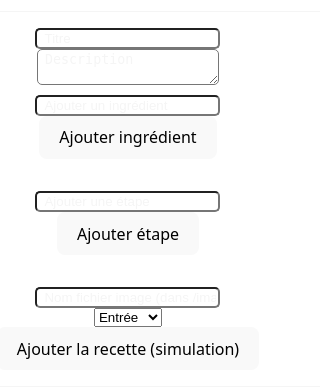
RecipeForm › ajoute un ingrédient quand on clique sur 'Ajouter ingrédient'
In the field with placeholder "Ajouter un ingrédient": (128, 105) [36,95,220,116], type "sucre"
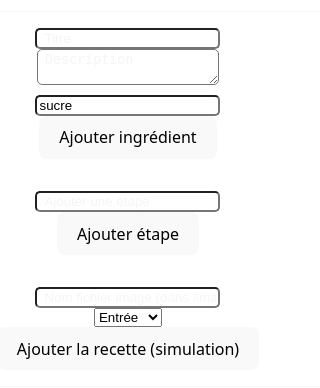
Click the button "Ajouter ingrédient": (128, 137) [39,116,217,159]
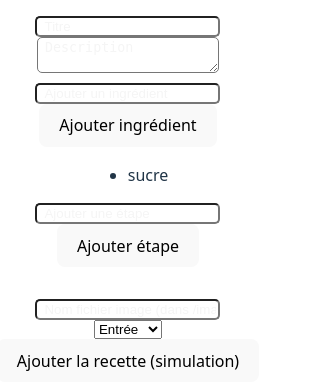
Now the list item "sucre" is shown, box [128,163,168,187]
Now the field with placeholder "Ajouter un ingrédient" is empty, box [36,83,220,104]
